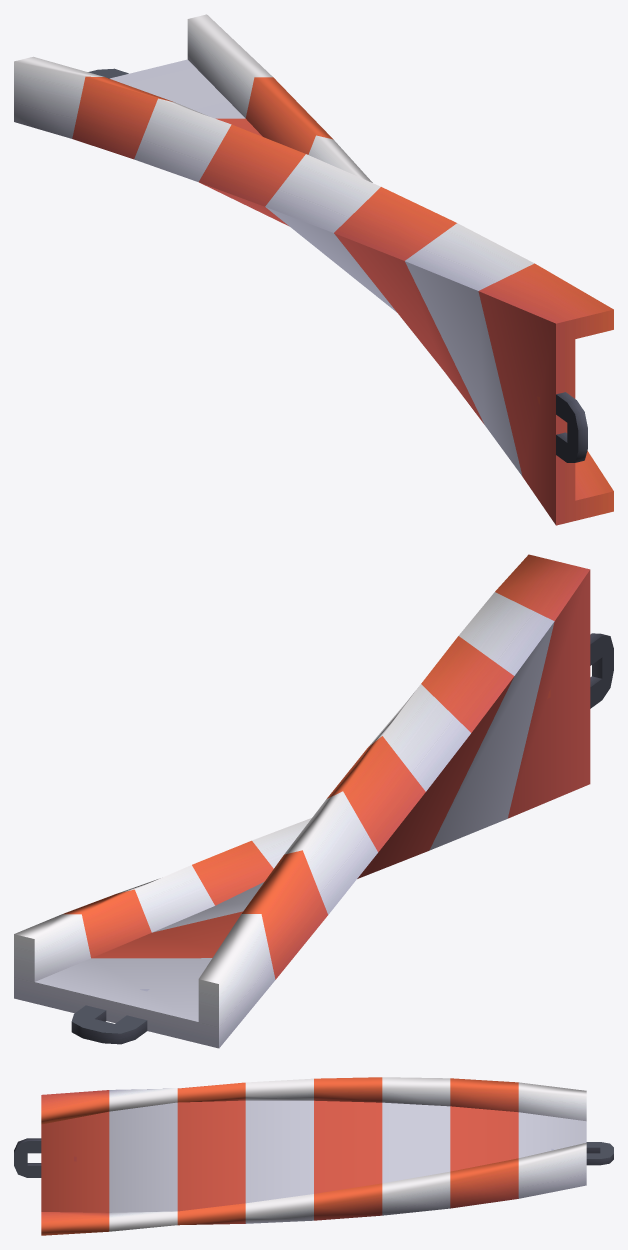
The model's file is track-striped-narrow-straight-skew-left-side.glb.
The picture shows the model from 3 angles, top to bottom: view 1: azimuth 30°, elevation 25°; view 2: azimuth 150°, elevation 25°; view 3: azimuth 270°, elevation 25°; orthographic projection. The views are drawn at different scales.
Parts seen in each view (by area): view 1: track-striped-narrow-straight-skew-left-side; view 2: track-striped-narrow-straight-skew-left-side; view 3: track-striped-narrow-straight-skew-left-side.
Part boxes in pixels (x1,y1,x2,y2): track-striped-narrow-straight-skew-left-side: (14, 14, 613, 525); track-striped-narrow-straight-skew-left-side: (14, 554, 613, 1048); track-striped-narrow-straight-skew-left-side: (14, 1077, 613, 1235).
Size of the model in its own units: 1.08 by 1.08 by 4.4.
1 material, 1 textured.
